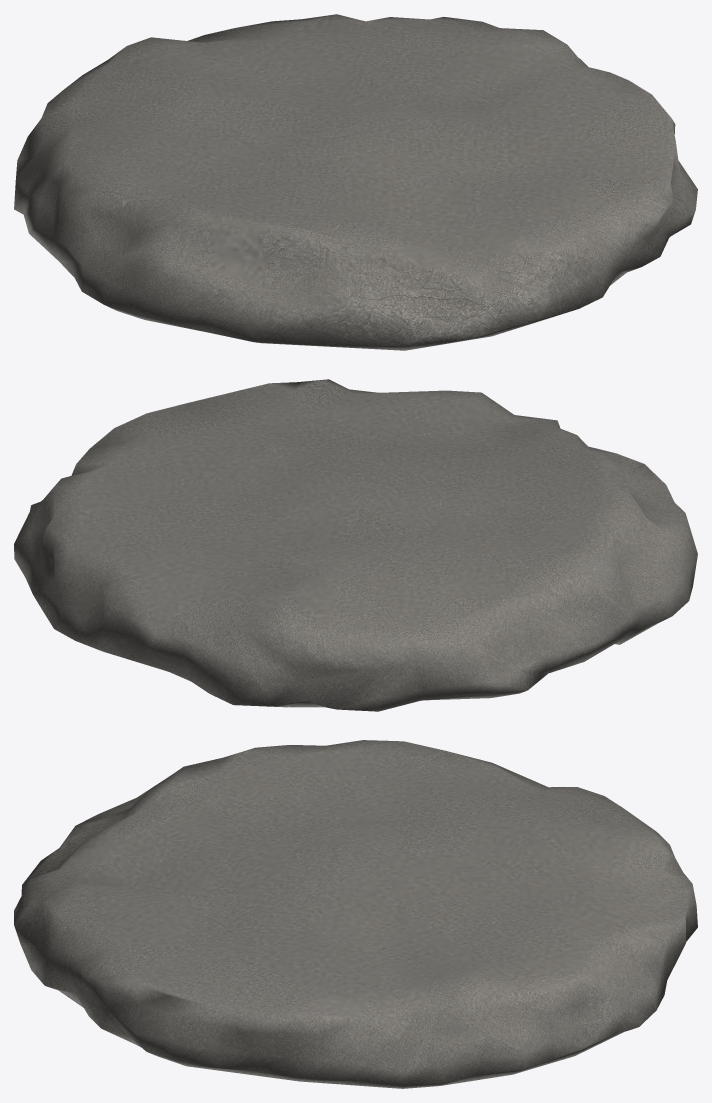
The picture shows the model from 3 angles, top to bottom: view 1: azimuth 30°, elevation 25°; view 2: azimuth 150°, elevation 25°; view 3: azimuth 270°, elevation 25°; orthographic projection. The views are drawn at different scales.
Visible parts, largest first — view 1: mesh_node; view 2: mesh_node; view 3: mesh_node.
Part boxes in pixels (box(x1,y1,x2,y2)): mesh_node: box(14, 14, 697, 350); mesh_node: box(14, 379, 697, 711); mesh_node: box(14, 740, 697, 1088).
Bounding box in the file's own units: 2 × 0.3223 × 2.
1 material, 1 textured.
